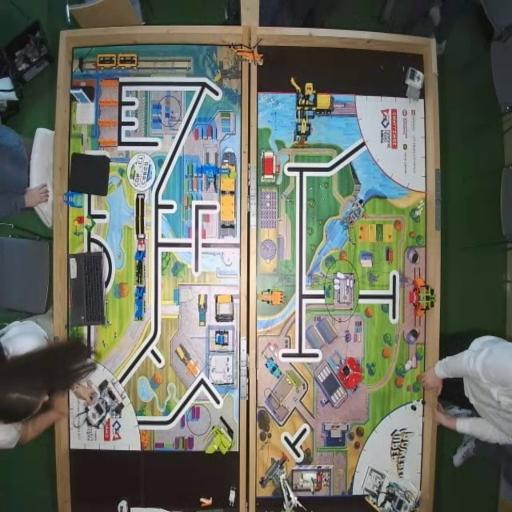lego_robot: (362, 466, 421, 512), (84, 378, 126, 429)
